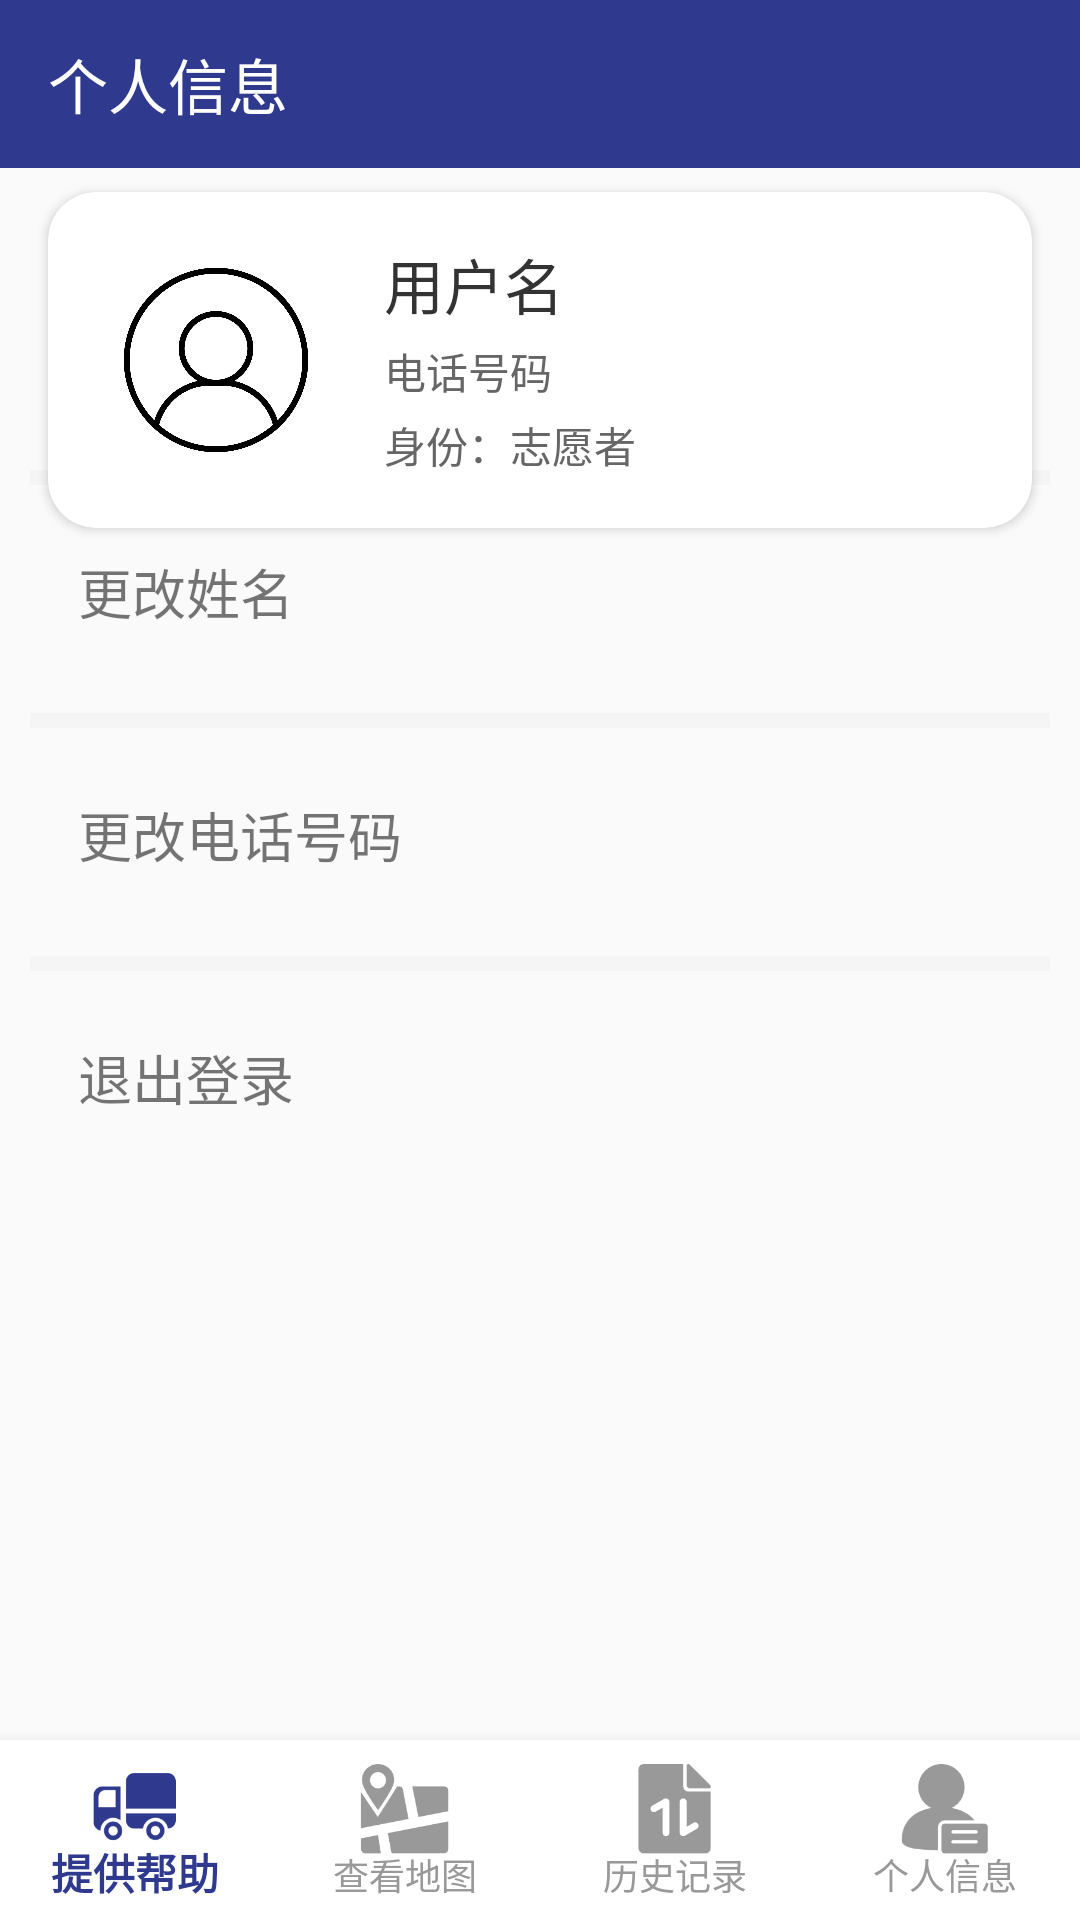

Named icons in this screenshot (1080x1920) and their bounding boxes, (x1, y1, x2, y2):
profiler: (124, 268, 308, 452)
